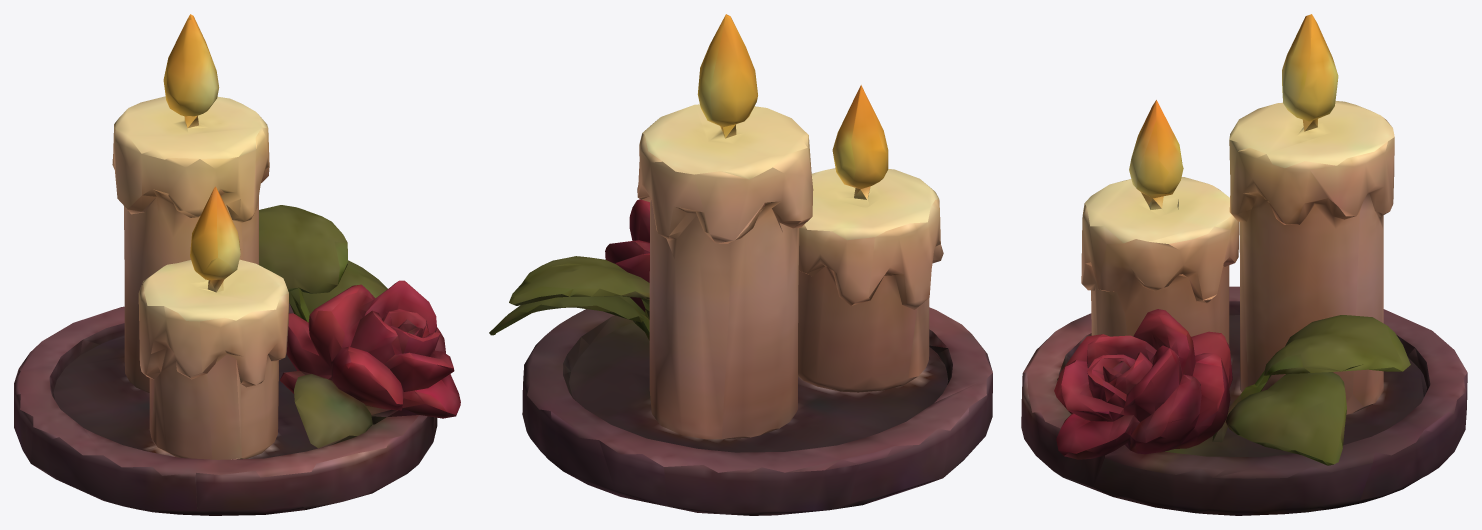
The model's file is deco17.glb.
3 renders of one model, left to right at view 1: azimuth 30°, elevation 25°; view 2: azimuth 150°, elevation 25°; view 3: azimuth 270°, elevation 25°, orthographic. The views are drawn at different scales.
Size of the model in its own units: 0.2228 by 0.2175 by 0.2141.
Materials: 1 (1 with a texture image).
